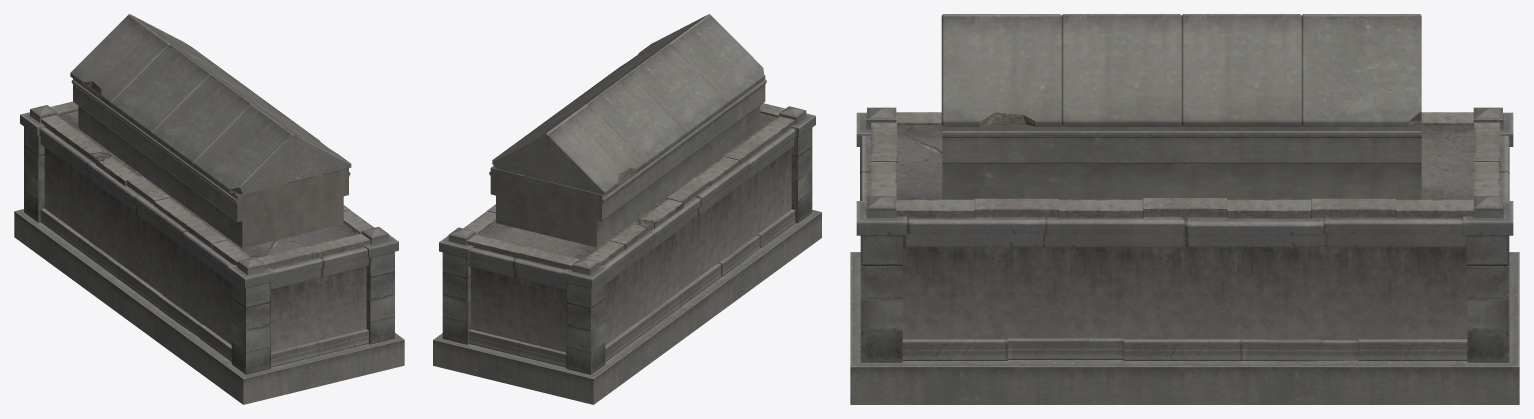
Rendered from Cemetery_STR_GraveBase_03_Wall_02.fbx.
3 renders of one model, left to right at view 1: azimuth 30°, elevation 25°; view 2: azimuth 150°, elevation 25°; view 3: azimuth 270°, elevation 25°, orthographic. The views are drawn at different scales.
Visible parts, largest first — view 1: Cemetery_STR_GraveBase_03_Wall_02; view 2: Cemetery_STR_GraveBase_03_Wall_02; view 3: Cemetery_STR_GraveBase_03_Wall_02.
Boxes of the visible parts, left/top/right/bottom form: Cemetery_STR_GraveBase_03_Wall_02: left=14, top=14, right=404, bottom=404; Cemetery_STR_GraveBase_03_Wall_02: left=433, top=14, right=821, bottom=404; Cemetery_STR_GraveBase_03_Wall_02: left=850, top=14, right=1519, bottom=404.
Size of the model in its own units: 260 by 352 by 640.
Materials: 1 (1 with a texture image).
